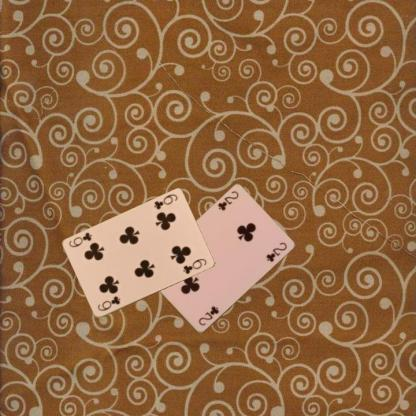2c: (215, 188, 240, 212), (196, 304, 220, 327)
6c: (151, 192, 178, 211), (94, 294, 122, 312)
